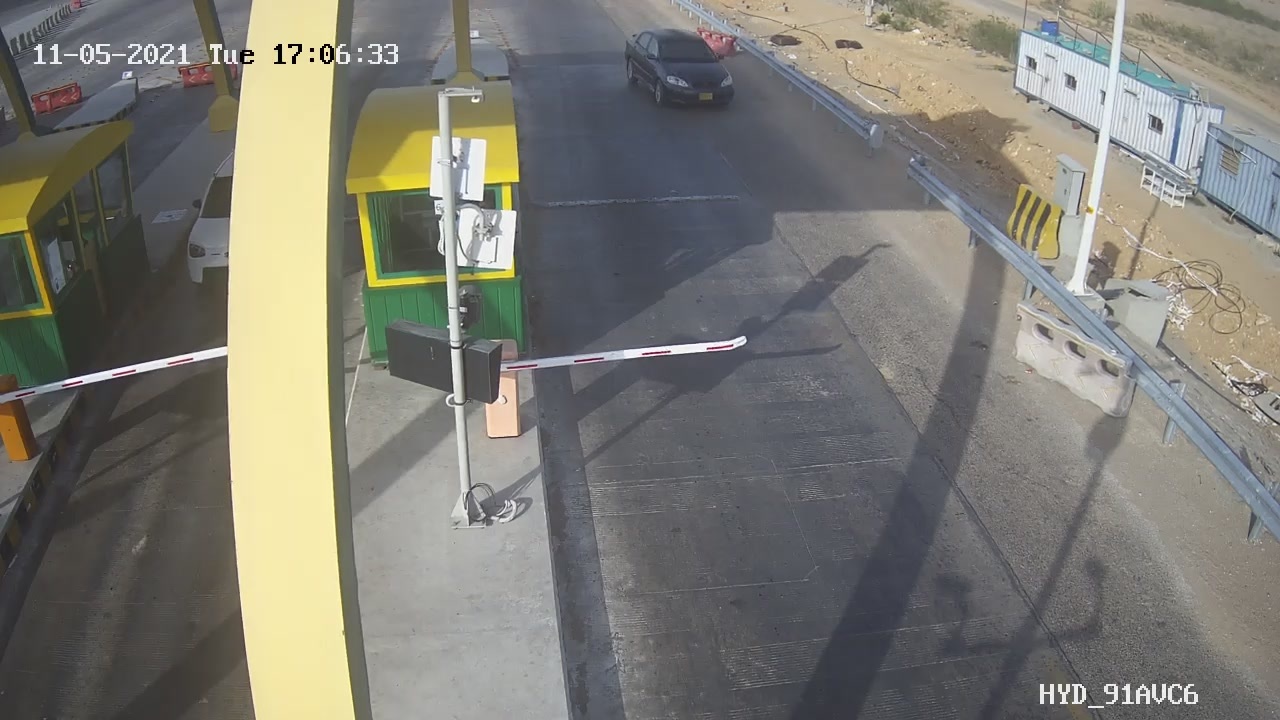F1: (613, 18, 750, 122)
